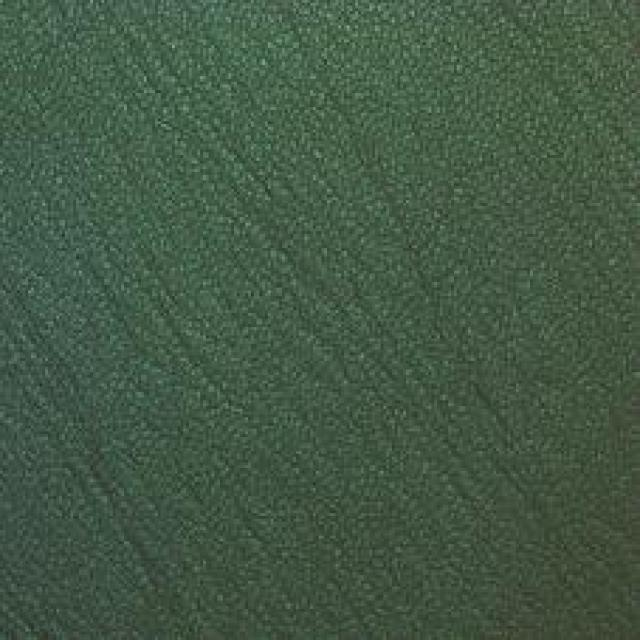Growth Marks: (314, 111, 485, 359), (28, 366, 173, 600)
